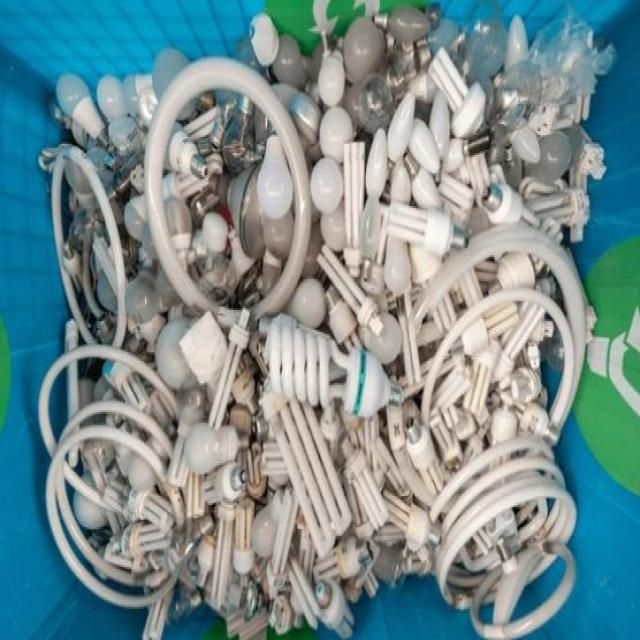electronic: (37, 0, 611, 638), (255, 133, 292, 219), (183, 419, 239, 474)
